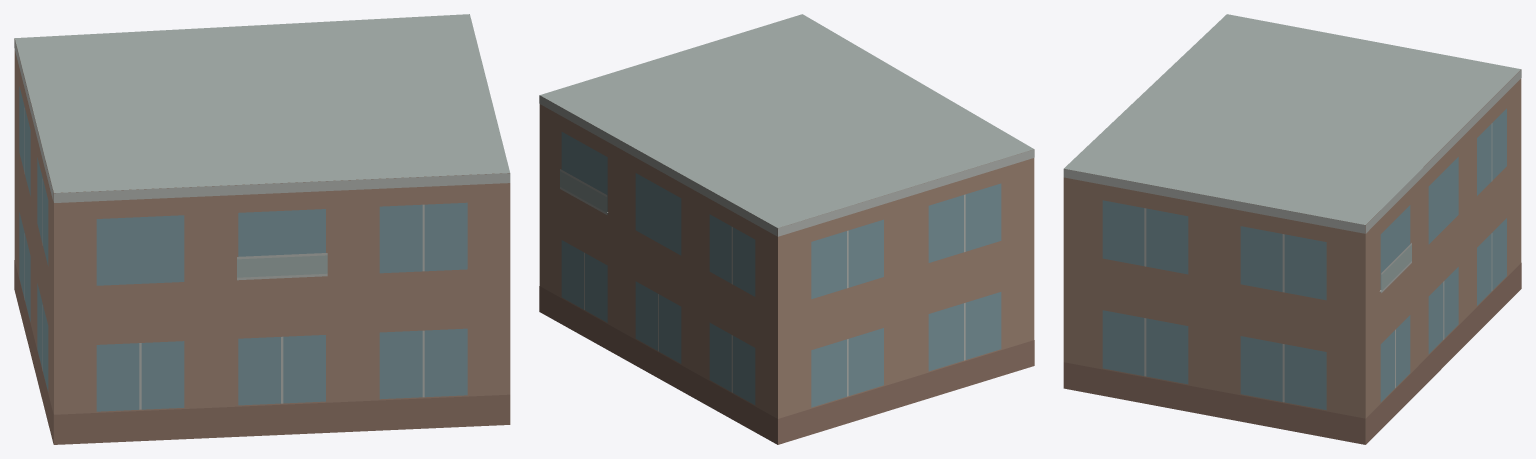
The model's file is survey-upis-32958250.glb.
The picture shows the model from 3 angles, left to right: view 1: azimuth 30°, elevation 25°; view 2: azimuth 150°, elevation 25°; view 3: azimuth 270°, elevation 25°; orthographic projection. The views are drawn at different scales.
Visible parts, largest first — view 1: survey-upis-32958250.tmp; view 2: survey-upis-32958250.tmp; view 3: survey-upis-32958250.tmp.
Boxes of the visible parts, left/top/right/bottom form: survey-upis-32958250.tmp: left=14, top=14, right=510, bottom=444; survey-upis-32958250.tmp: left=539, top=14, right=1034, bottom=444; survey-upis-32958250.tmp: left=1063, top=14, right=1521, bottom=444.
Size of the model in its own units: 12.57 by 6.1 by 11.52.
